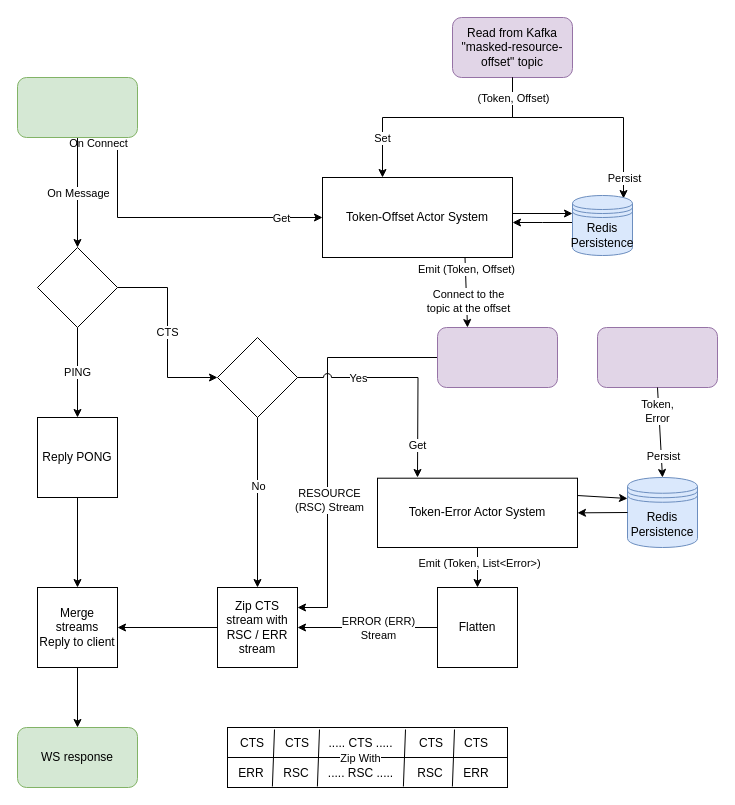
Some shapes in this 735 by 805 pixel diagram are drawn without their labels. Here are the shapes that lost their labels. From the top down, the box of each, then its label:
(16, 76, 138, 138): HTTP/WS request
(36, 246, 118, 328): Message Type?
(216, 336, 298, 418): Start or End of Resources?
(436, 326, 558, 388): Read from Kafka "masked-resource" topic
(596, 326, 718, 388): Read from Kafka "error" topic
